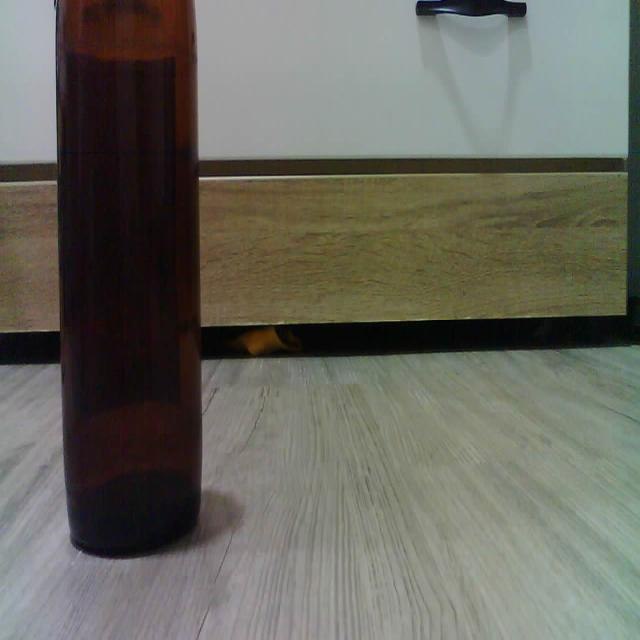bottle: (56, 0, 202, 554)
